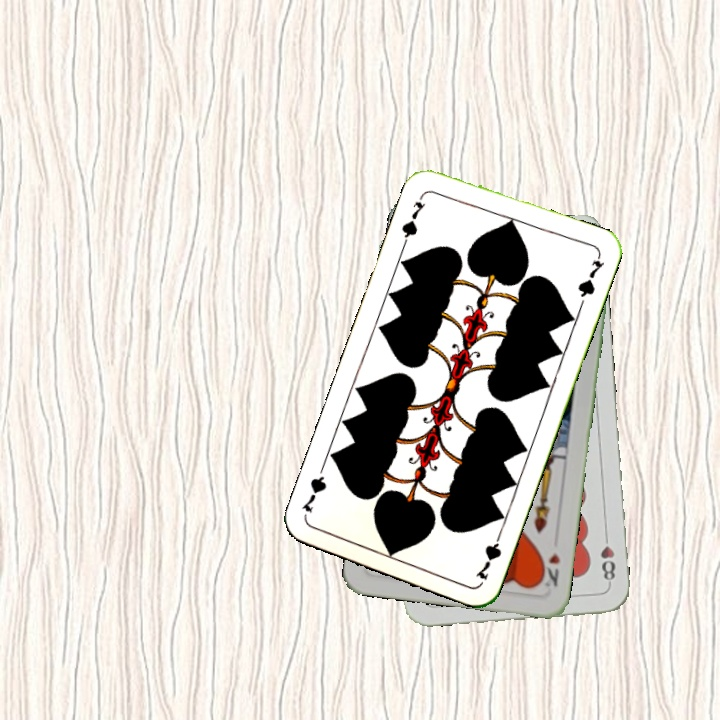G7: (471, 526, 505, 582), (397, 189, 428, 246)
H8: (596, 528, 618, 587)
HK: (535, 549, 562, 589)
